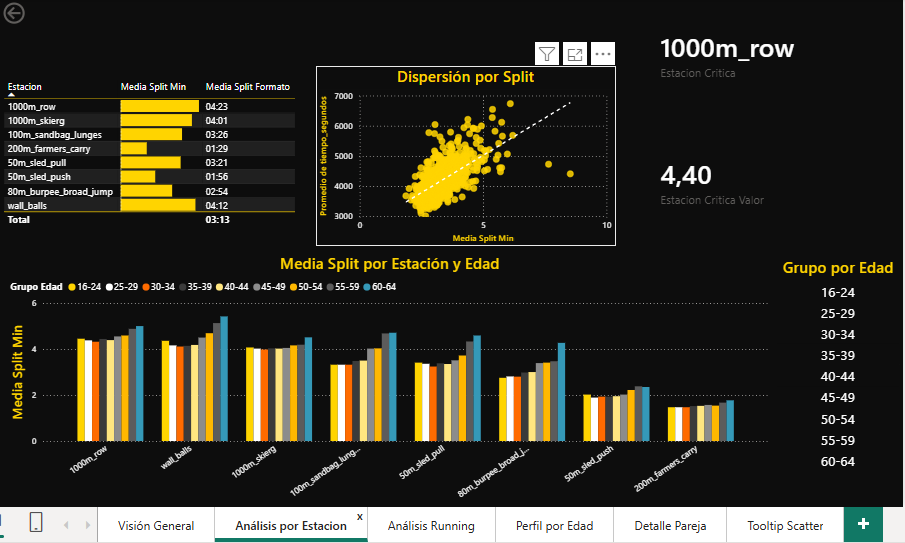

The dashboard page shown, as its layout file describes it:
{"tool":"powerbi","page":{"name":"Análisis por Estacion","canvas":[1280,720],"ordinal":1},"visuals":[{"type":"tableEx","fields":{"Values":["splits_largo.Estacion","_Medidas.Media Split Min","_Medidas.Media Split Formato"]},"box":[0,109.5,426.7,250.3],"z":0},{"type":"clusteredColumnChart","title":"Media Split por Estación y Edad","fields":{"Category":["splits_largo.Estacion"],"Y":["_Medidas.Media Split Min"],"Series":["splits_largo.grupo_edad"]},"box":[10,359.8,1085.2,359.8],"z":1000},{"type":"scatterChart","title":"Dispersión por Split","fields":{"X":["_Medidas.Media Split Min"],"Category":["splits_largo.nombres_pareja"],"Y":["Avg(splits_largo.tiempo_segundos)"]},"box":[448.6,94.3,423.8,256],"z":2000},{"type":"actionButton","box":[0,0,100,40],"z":3000},{"type":"listSlicer","title":"Grupo por Edad","fields":{"Values":["dim_categoria.grupo_edad"]},"box":[1095.1,365.5,184.9,354.1],"z":4000},{"type":"cardVisual","fields":{"Data":["_Medidas.Estacion Critica"]},"box":[907.4,0,372.6,156.4],"z":5000},{"type":"cardVisual","fields":{"Data":["_Medidas.Estacion Critica Valor"]},"box":[907.4,156.4,372.6,203.4],"z":6000}]}

Visuals, with their boxes on the page's 1280x720 design canvas (x1, y1, x2, y2). These are canvas units, not pixel positions in the 905x543 screenshot, which may show the page scaled, cropped or inside an application window:
tableEx - splits_largo.Estacion x _Medidas.Media Split Min: (left=0, top=110, right=427, bottom=360)
"Media Split por Estación y Edad" clusteredColumnChart: (left=10, top=360, right=1095, bottom=720)
"Dispersión por Split" scatterChart: (left=449, top=94, right=872, bottom=350)
actionButton: (left=0, top=0, right=100, bottom=40)
"Grupo por Edad" listSlicer: (left=1095, top=366, right=1280, bottom=720)
cardVisual - _Medidas.Estacion Critica: (left=907, top=0, right=1280, bottom=156)
cardVisual - _Medidas.Estacion Critica Valor: (left=907, top=156, right=1280, bottom=360)
